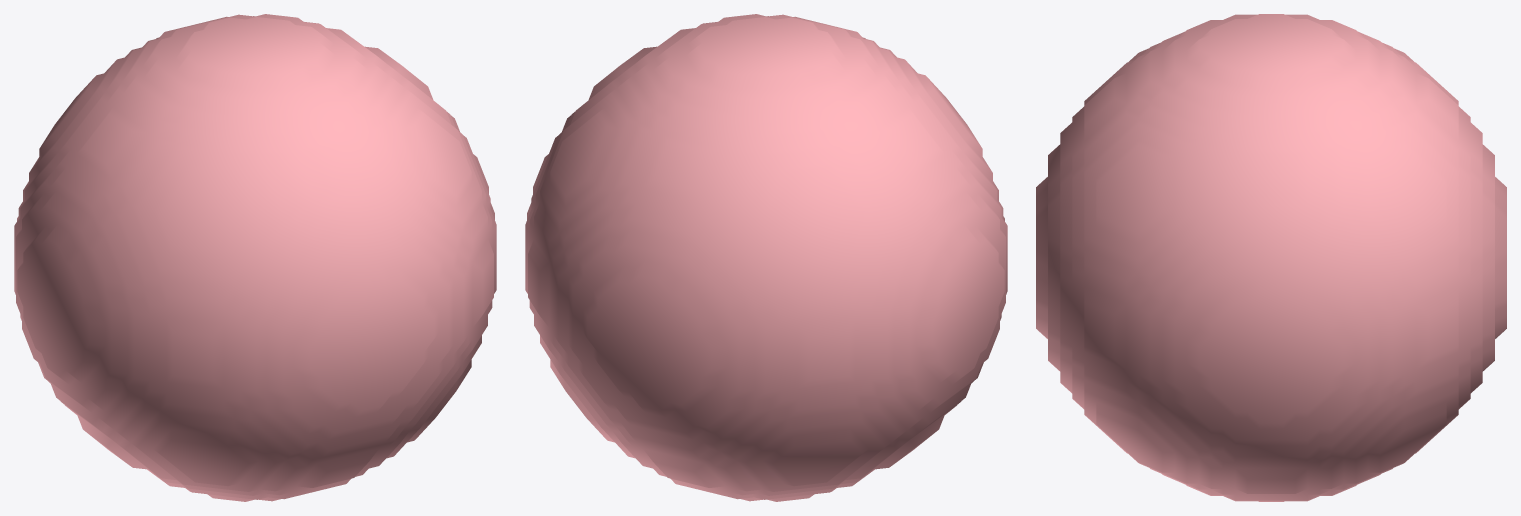
Rendered from mc-no-lerp.glb.
3 renders of one model, left to right at view 1: azimuth 30°, elevation 25°; view 2: azimuth 150°, elevation 25°; view 3: azimuth 270°, elevation 25°, orthographic.
Visible parts, largest first — view 1: _MeshInstance3D_386, _MeshInstance3D_384, _MeshInstance3D_387, _MeshInstance3D_382, _MeshInstance3D_385, _MeshInstance3D_380, _MeshInstance3D_383; view 2: _MeshInstance3D_382, _MeshInstance3D_380, _MeshInstance3D_383, _MeshInstance3D_386, _MeshInstance3D_381, _MeshInstance3D_384, _MeshInstance3D_387; view 3: _MeshInstance3D_383, _MeshInstance3D_387, _MeshInstance3D_381, _MeshInstance3D_385, _MeshInstance3D_382, _MeshInstance3D_386.
Boxes of the visible parts, box(x1,y1,x2,y2) form: _MeshInstance3D_386: box(53, 46, 372, 359); _MeshInstance3D_384: box(53, 307, 372, 501); _MeshInstance3D_387: box(256, 31, 496, 343); _MeshInstance3D_382: box(14, 20, 254, 306); _MeshInstance3D_385: box(315, 258, 496, 491); _MeshInstance3D_380: box(14, 259, 148, 470); _MeshInstance3D_383: box(196, 14, 389, 58); _MeshInstance3D_382: box(649, 46, 968, 359); _MeshInstance3D_380: box(649, 307, 968, 501); _MeshInstance3D_383: box(525, 31, 765, 343); _MeshInstance3D_386: box(767, 20, 1007, 306); _MeshInstance3D_381: box(525, 258, 706, 491); _MeshInstance3D_384: box(873, 259, 1007, 470); _MeshInstance3D_387: box(632, 14, 825, 58); _MeshInstance3D_383: box(1271, 44, 1506, 357); _MeshInstance3D_387: box(1036, 44, 1271, 357); _MeshInstance3D_381: box(1271, 288, 1506, 501); _MeshInstance3D_385: box(1036, 288, 1271, 501); _MeshInstance3D_382: box(1271, 14, 1506, 191); _MeshInstance3D_386: box(1036, 14, 1271, 191).
Size of the model in its own units: 19.5 by 19.5 by 19.5.
